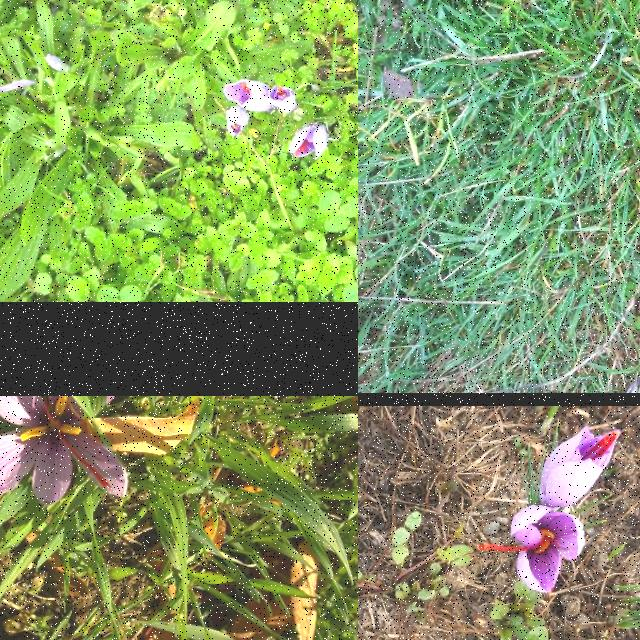flower: (0, 396, 128, 506), (480, 506, 586, 594), (539, 427, 621, 507), (225, 80, 271, 114), (289, 125, 329, 161), (226, 106, 252, 138), (268, 85, 296, 113)
